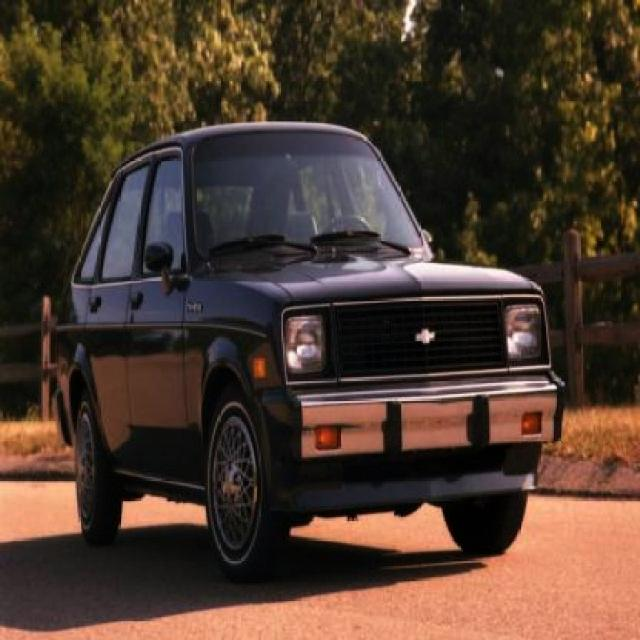car: (51, 121, 564, 586)
